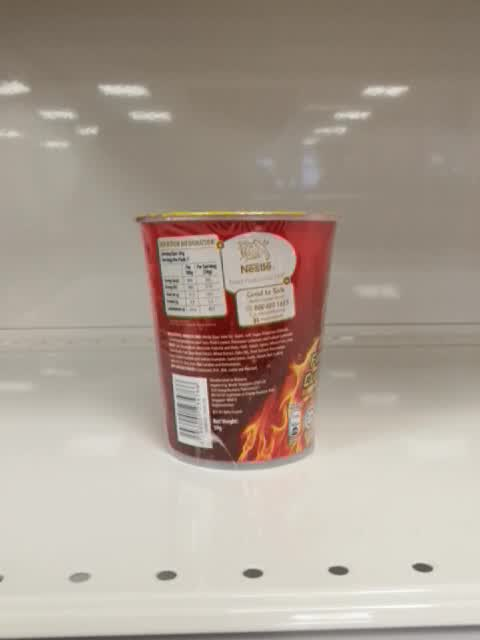maggi: (134, 210, 340, 472)
